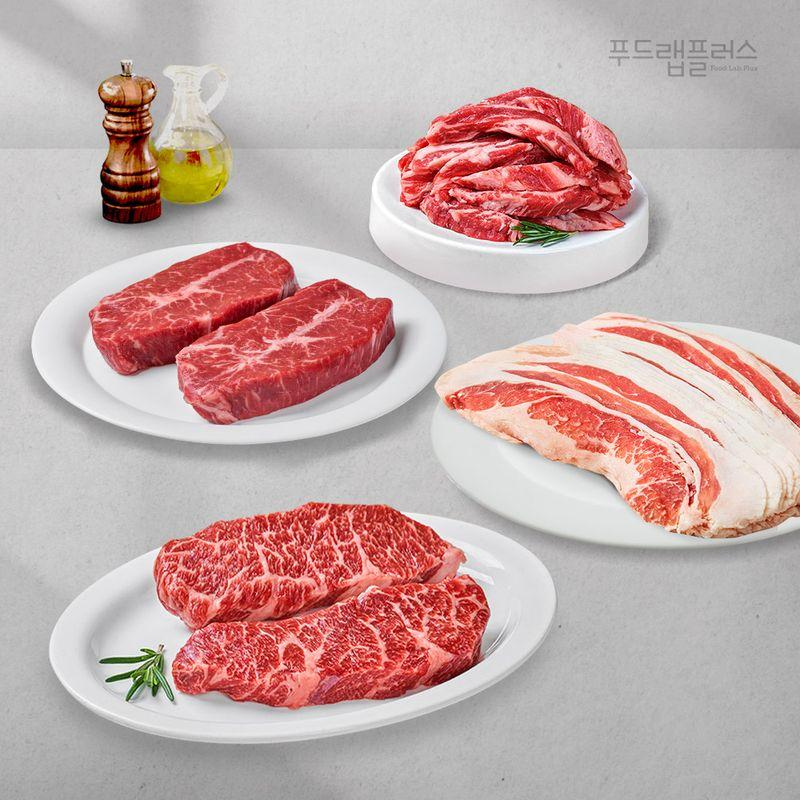beef: (221, 658, 559, 739), (231, 760, 594, 800)
